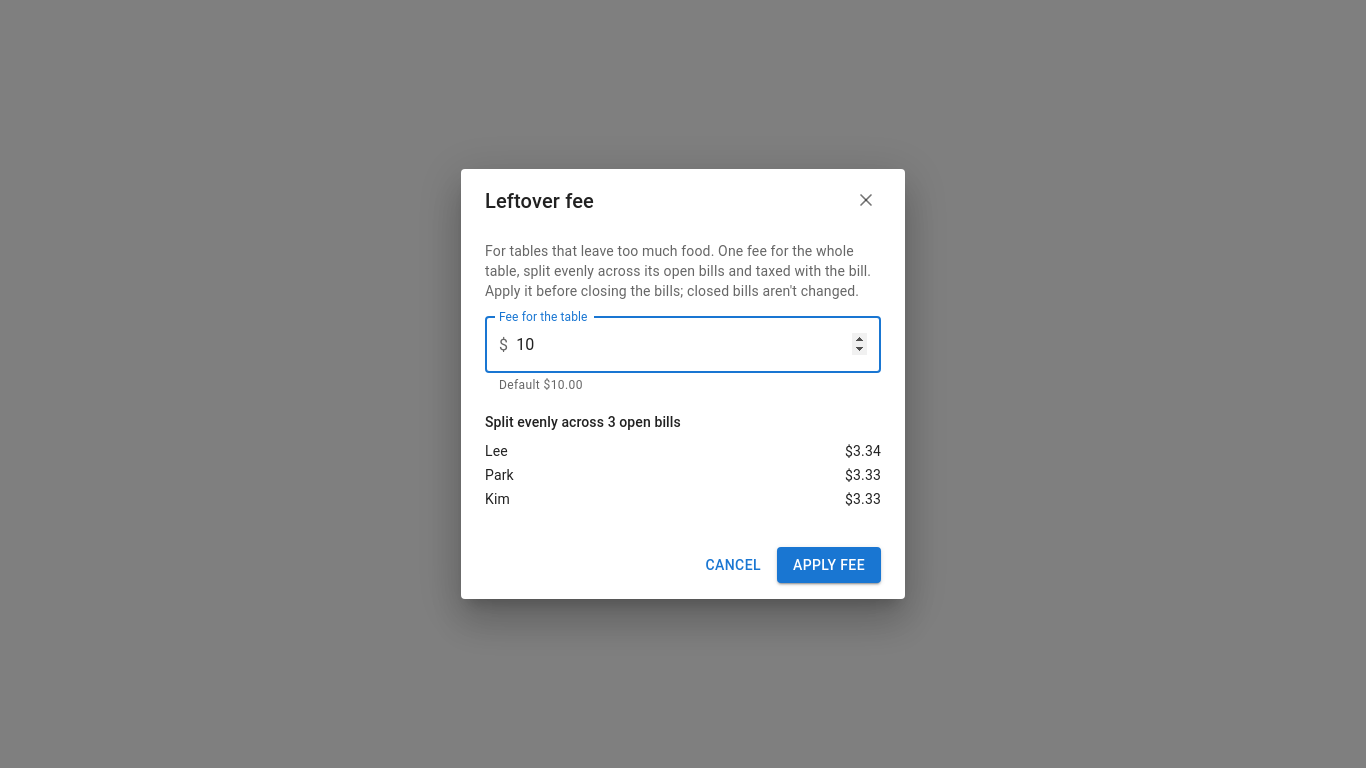
Test case: Leftover fee dialog › stays open and explains when the fee can't be applied
Check: the number field labelled "Fee for the table" holds "10", box [516,317,881,373]
Click the button "Apply fee" at (829, 565), box [777,547,881,583]
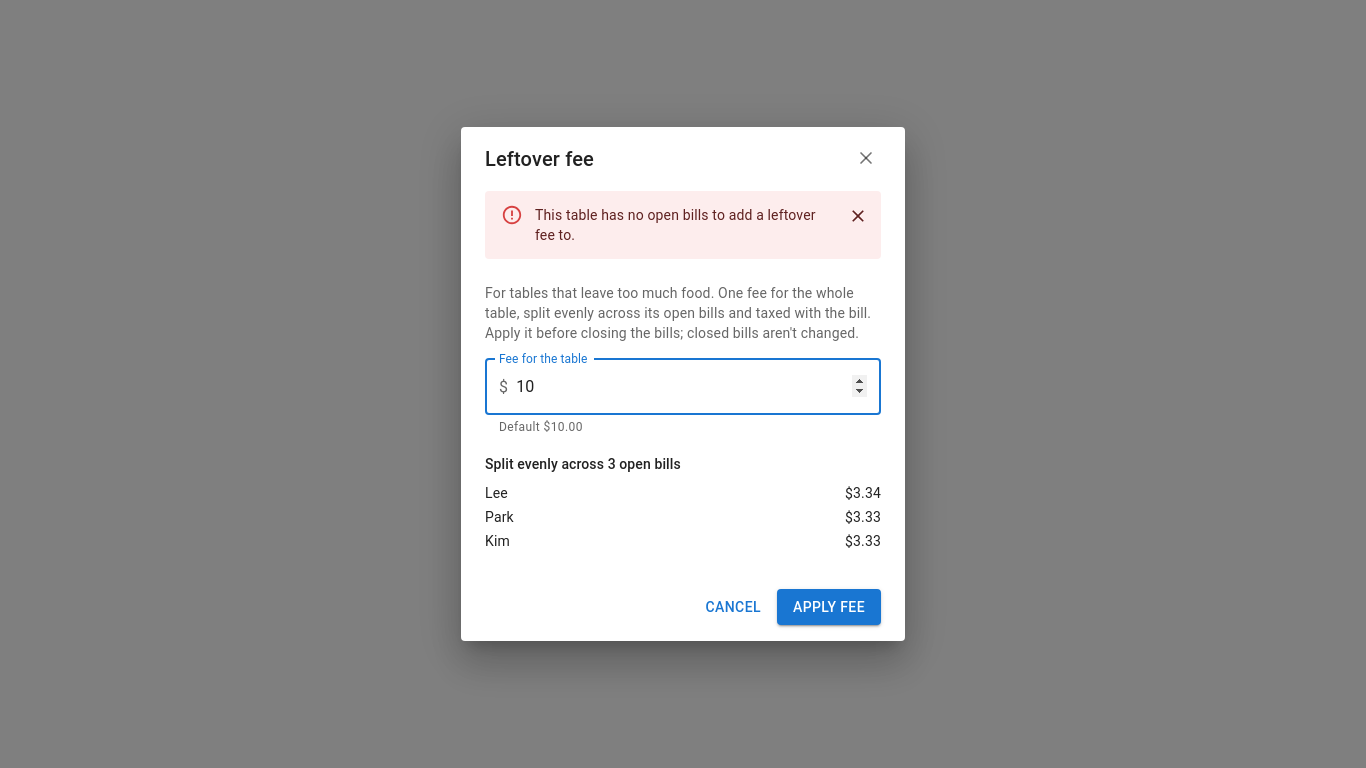
Check: the text "This table has no open bills to add a leftover fee to." is shown, box [535,197,827,253]
